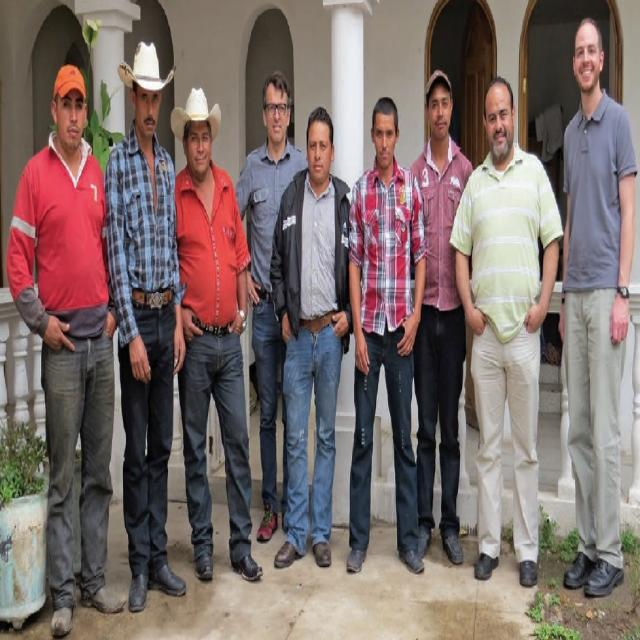body: (6, 60, 130, 636), (447, 70, 565, 589), (102, 36, 190, 614), (167, 83, 264, 589), (558, 16, 638, 600), (269, 101, 357, 572), (345, 91, 427, 576), (232, 76, 309, 546), (408, 68, 475, 570)
